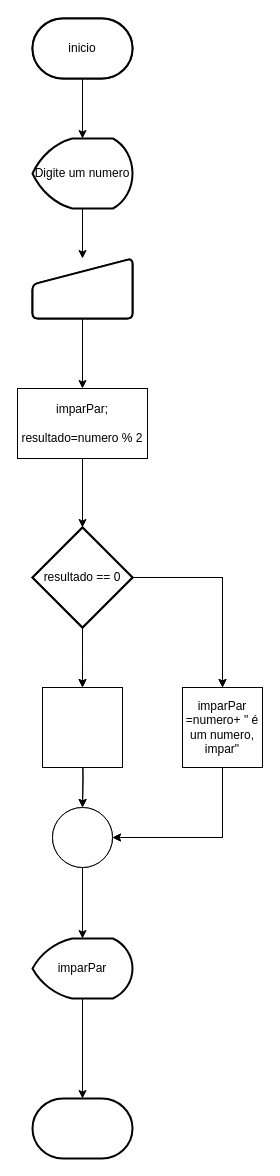
Image size: 280x1176. Some labels were removed from this diagram. The centre of each missing label's shape, as x and y in pixels:
fim: (x=82, y=1128)
imparPar = numero+ " é um numero, Par": (x=82, y=727)
numero: (x=82, y=288)
